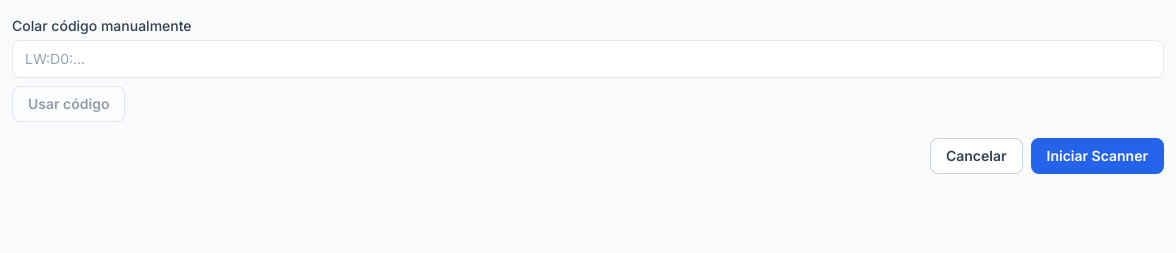
Test: QrScanner › QR inválido lido pela câmera exibe Alert e mantém scanner ativo
Click the button "Iniciar Scanner" at (1097, 156), box [1030, 138, 1164, 174]
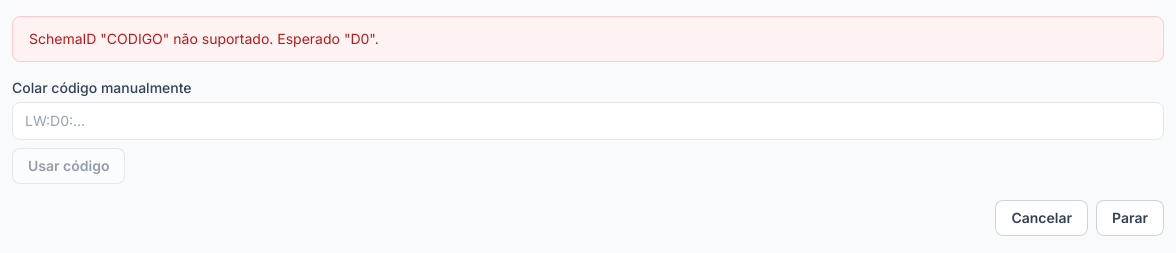
expect the message "SchemaID \"CODIGO\" não suportado. Esperado \"D0\"." is shown: met, box [12, 16, 1164, 62]
